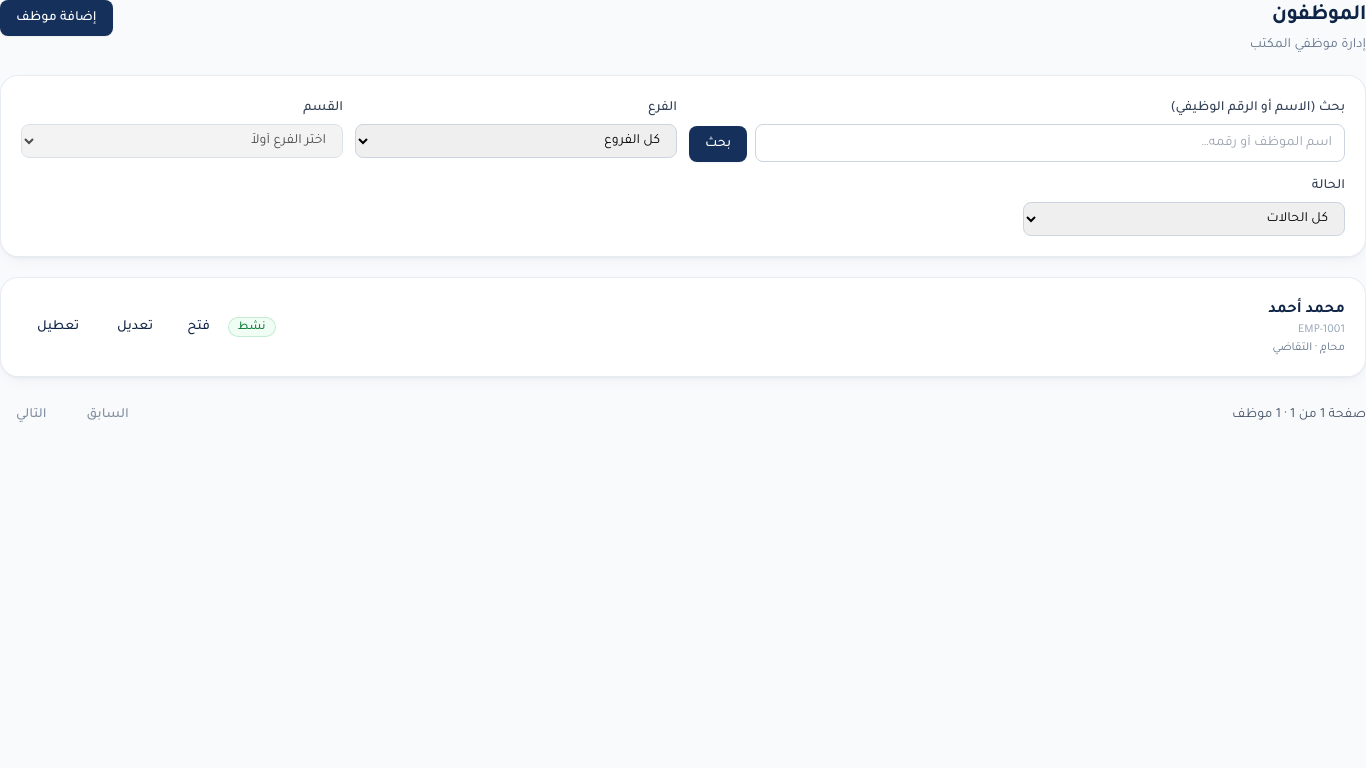
Scenario: HrEmployeesPage › يُظهر حقول إنهاء الخدمة فقط عند اختيار الحالة «منتهٍ»
Expected: the text "EMP-1001" is shown, [1298,324,1345,336]
Click the button "إضافة موظف".
click(56, 18)  # box [0,0,112,36]
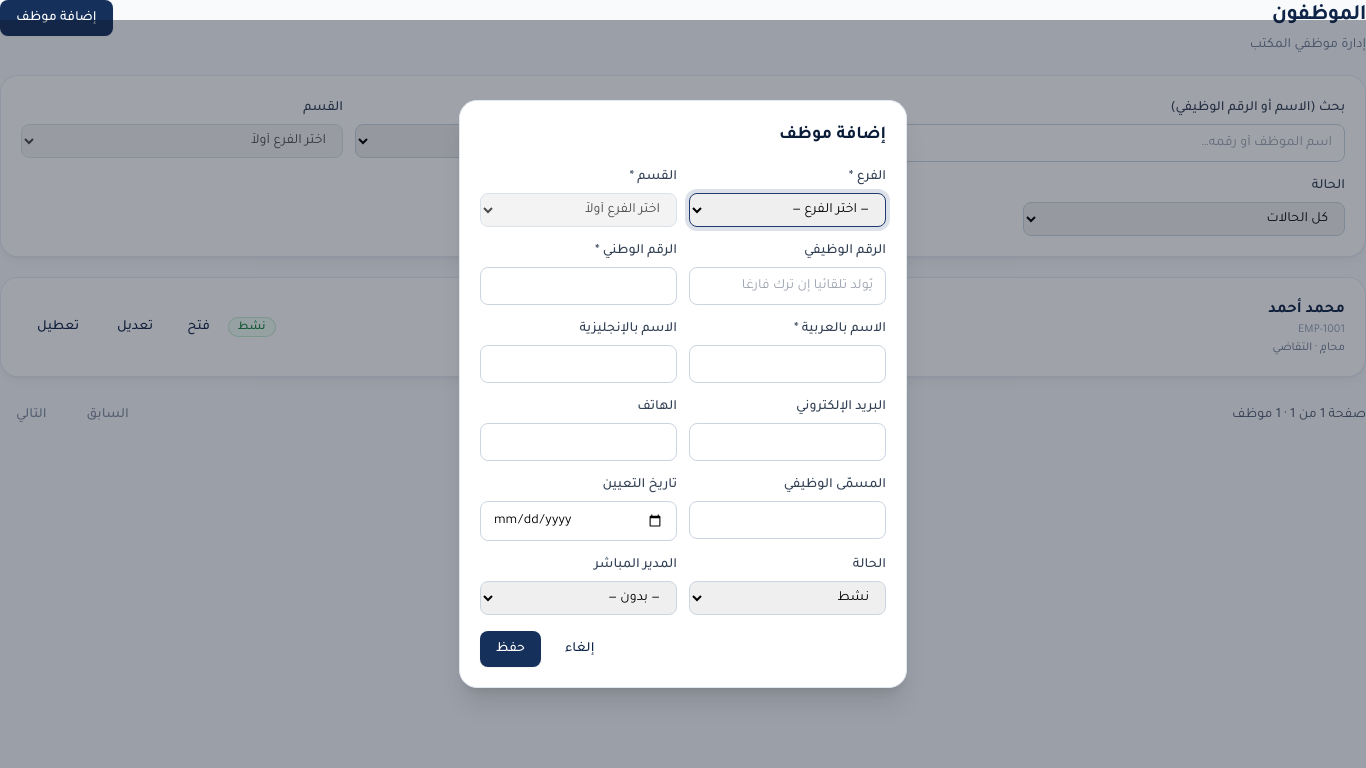
Expected: the field labelled "سبب إنهاء الخدمة" is not shown
Select "منتهٍ" in the dropdown labelled "الحالة" at (788, 598), box [689,581,886,615]
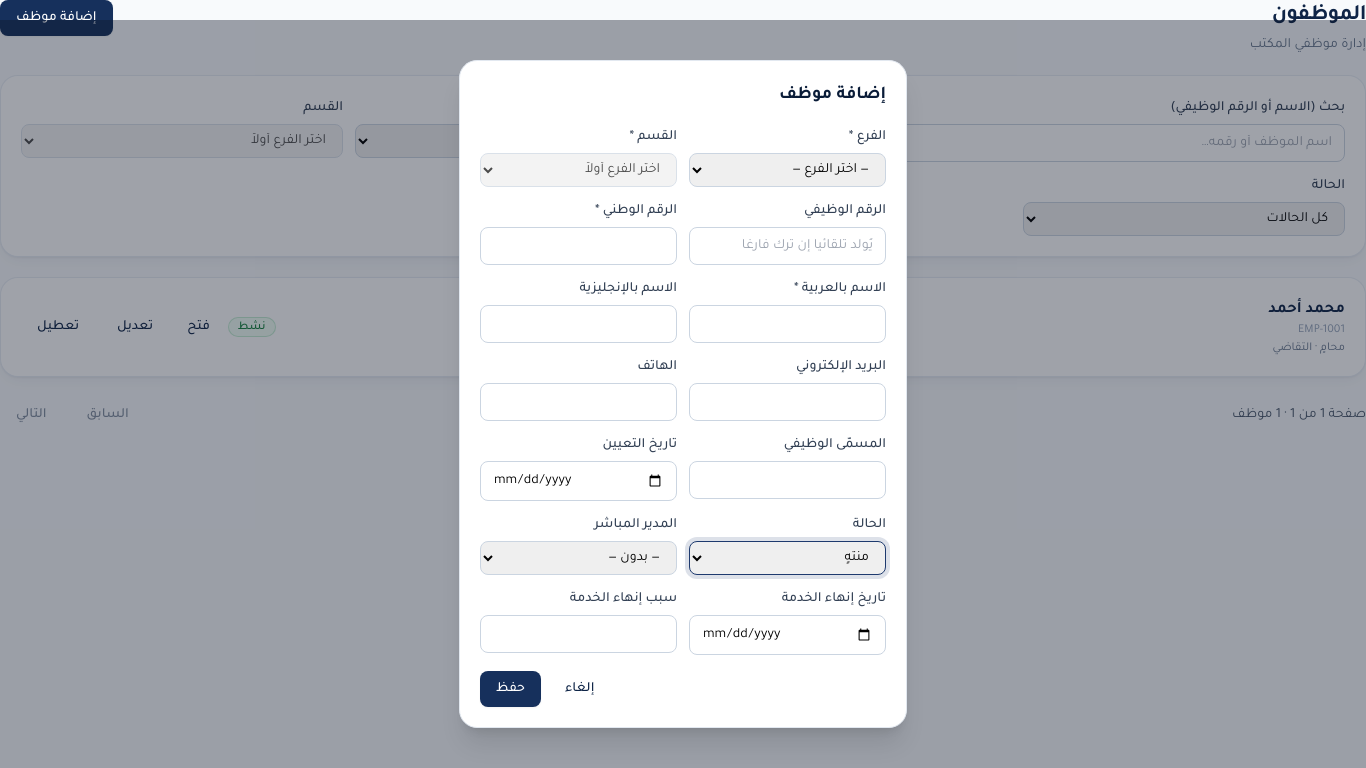
Expected: the field labelled "سبب إنهاء الخدمة" is shown, [480,615,677,653]
